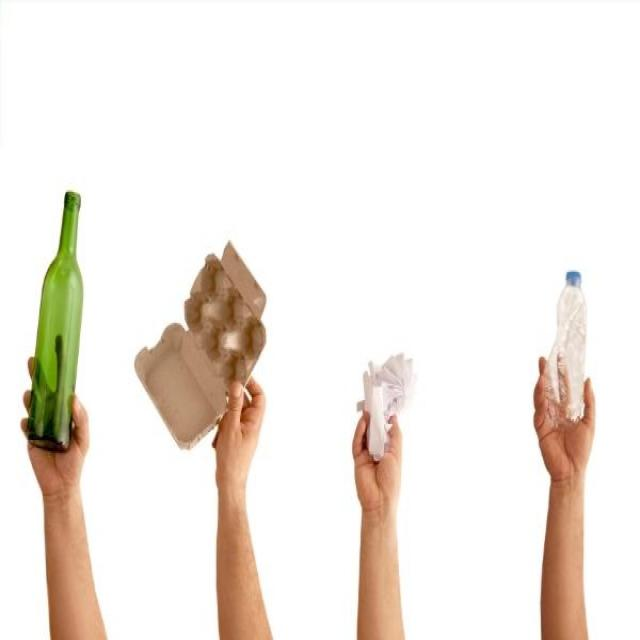paper: (133, 239, 268, 452), (355, 351, 418, 464)
plastic: (544, 269, 588, 428)
